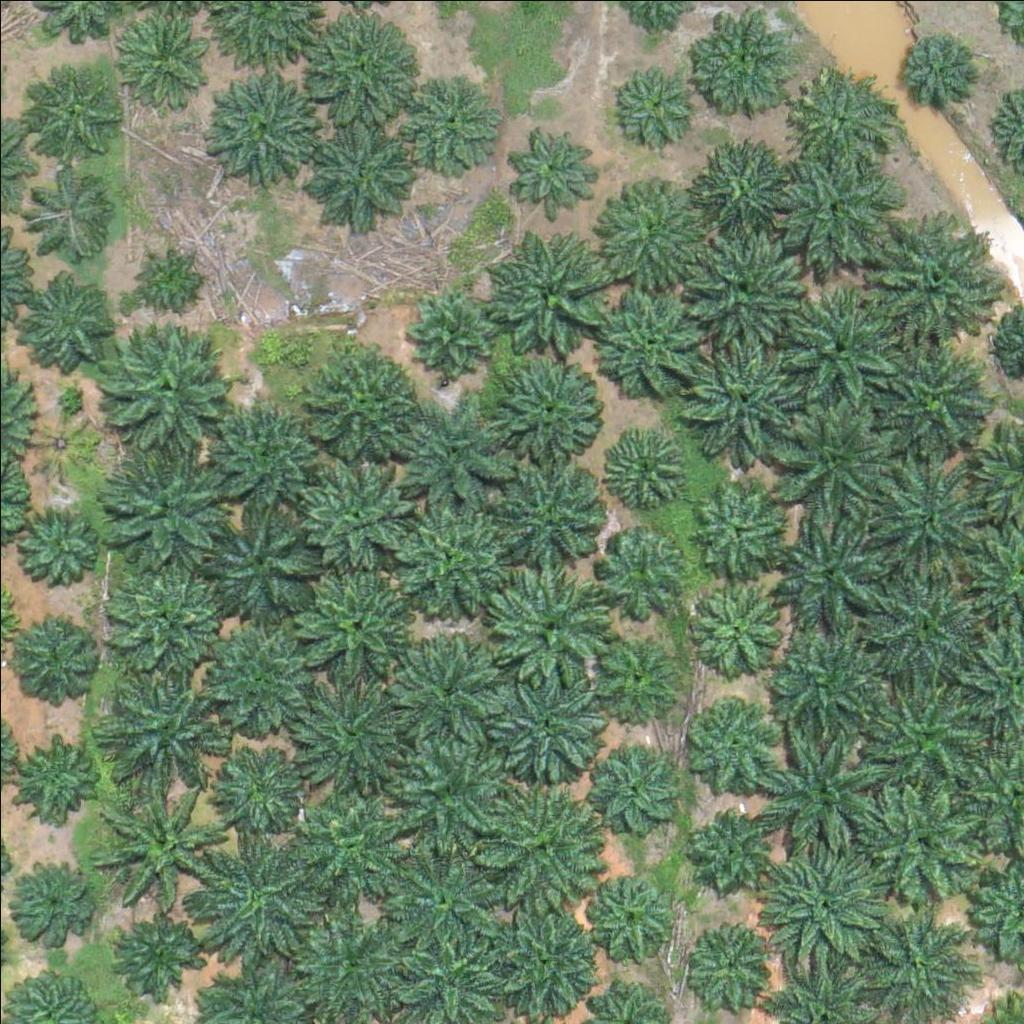Kelapa_Sawit: (284, 775, 409, 901), (284, 663, 409, 789), (290, 553, 415, 679), (296, 340, 421, 466), (386, 389, 511, 515), (390, 493, 515, 619), (383, 726, 508, 852), (378, 834, 503, 960), (480, 894, 605, 1020), (481, 665, 606, 791), (485, 560, 610, 686), (487, 227, 612, 353), (580, 273, 705, 399), (671, 336, 796, 462), (686, 220, 811, 346), (771, 511, 896, 637), (763, 840, 888, 966), (762, 728, 887, 854), (758, 613, 883, 739), (854, 780, 979, 906), (861, 677, 986, 803), (860, 564, 985, 690), (864, 456, 989, 582), (875, 218, 1000, 344), (774, 55, 899, 181), (777, 154, 902, 280), (199, 832, 324, 958), (199, 606, 324, 732), (202, 499, 327, 625), (201, 390, 326, 516), (107, 435, 232, 561), (99, 323, 224, 449), (99, 663, 224, 789), (102, 779, 227, 905), (300, 456, 425, 581), (386, 624, 511, 749), (469, 784, 594, 909), (777, 286, 902, 411), (769, 398, 894, 523), (104, 561, 229, 686), (587, 182, 700, 296), (494, 449, 607, 562), (489, 346, 602, 459), (882, 347, 995, 460), (300, 106, 413, 219), (307, 9, 420, 122), (682, 688, 782, 789), (687, 578, 787, 679), (690, 478, 790, 579), (398, 70, 498, 171), (211, 75, 311, 176), (680, 918, 780, 1018), (700, 140, 800, 240), (696, 8, 796, 108), (19, 275, 119, 375), (27, 159, 127, 259), (22, 59, 122, 159), (598, 532, 686, 620), (587, 751, 675, 839), (609, 59, 697, 147), (211, 745, 299, 833), (3, 851, 91, 939), (15, 739, 103, 827), (11, 622, 99, 710), (112, 912, 199, 1001), (408, 291, 495, 379), (596, 428, 683, 516), (588, 633, 675, 721), (581, 874, 668, 962), (688, 801, 775, 889), (510, 128, 597, 216), (13, 503, 100, 591), (900, 35, 975, 111), (135, 238, 210, 314), (31, 415, 93, 478)
